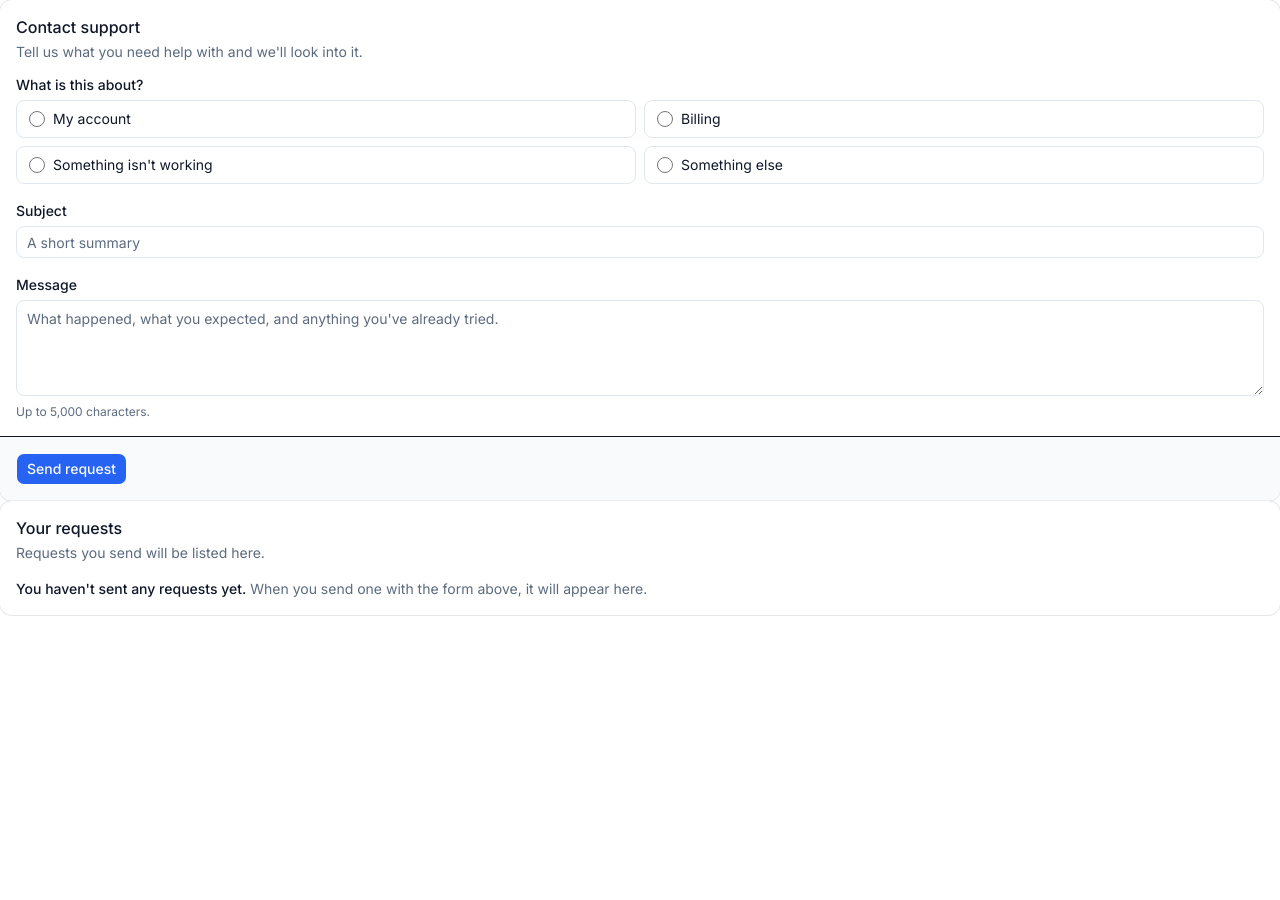
Test: sending a request › the first request ever replaces the empty state
Click the radio button labelled "Something isn't working" at (37, 165), box [29, 157, 45, 173]
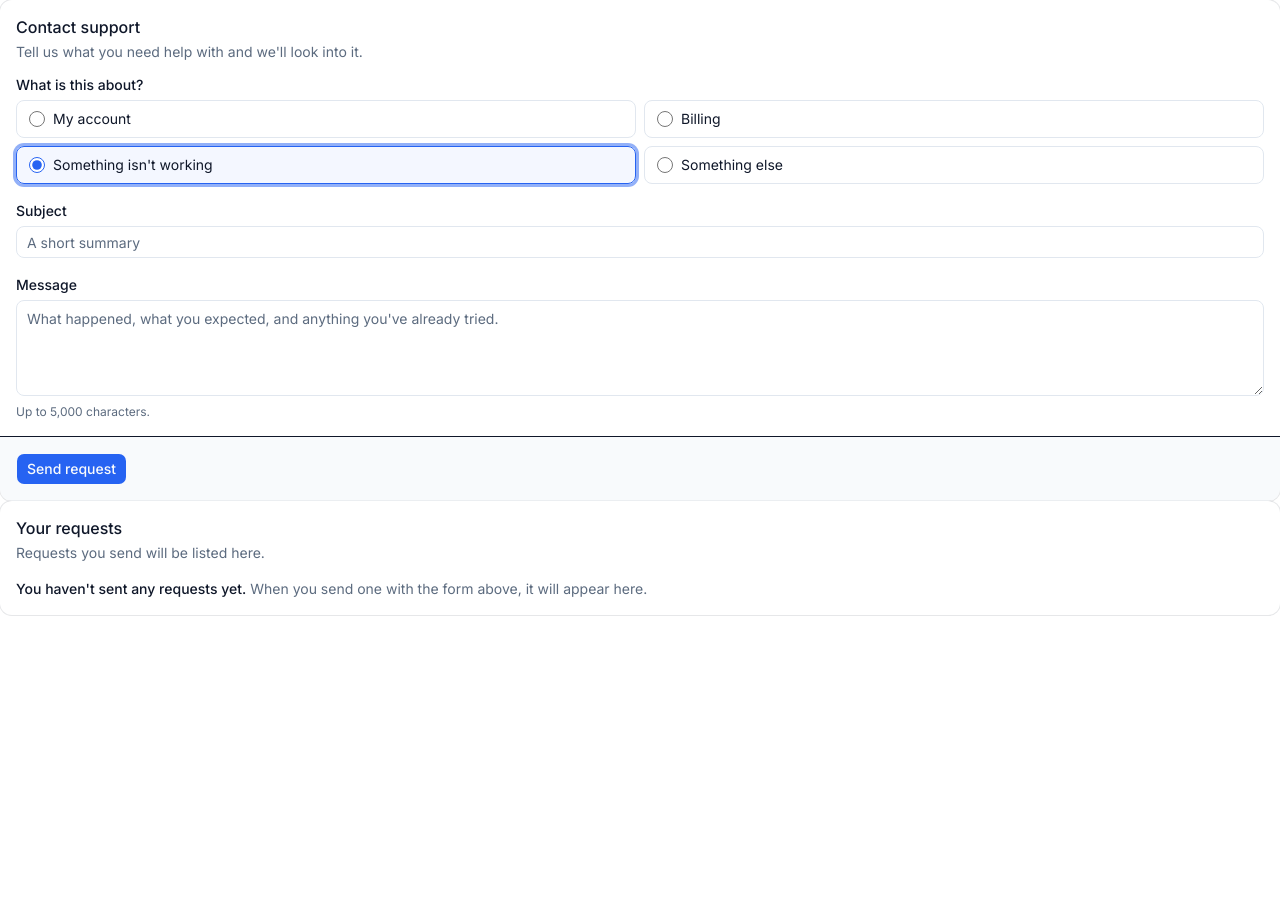
Type "My very first request" into the field labelled "Subject" at (640, 242), box [16, 226, 1264, 258]
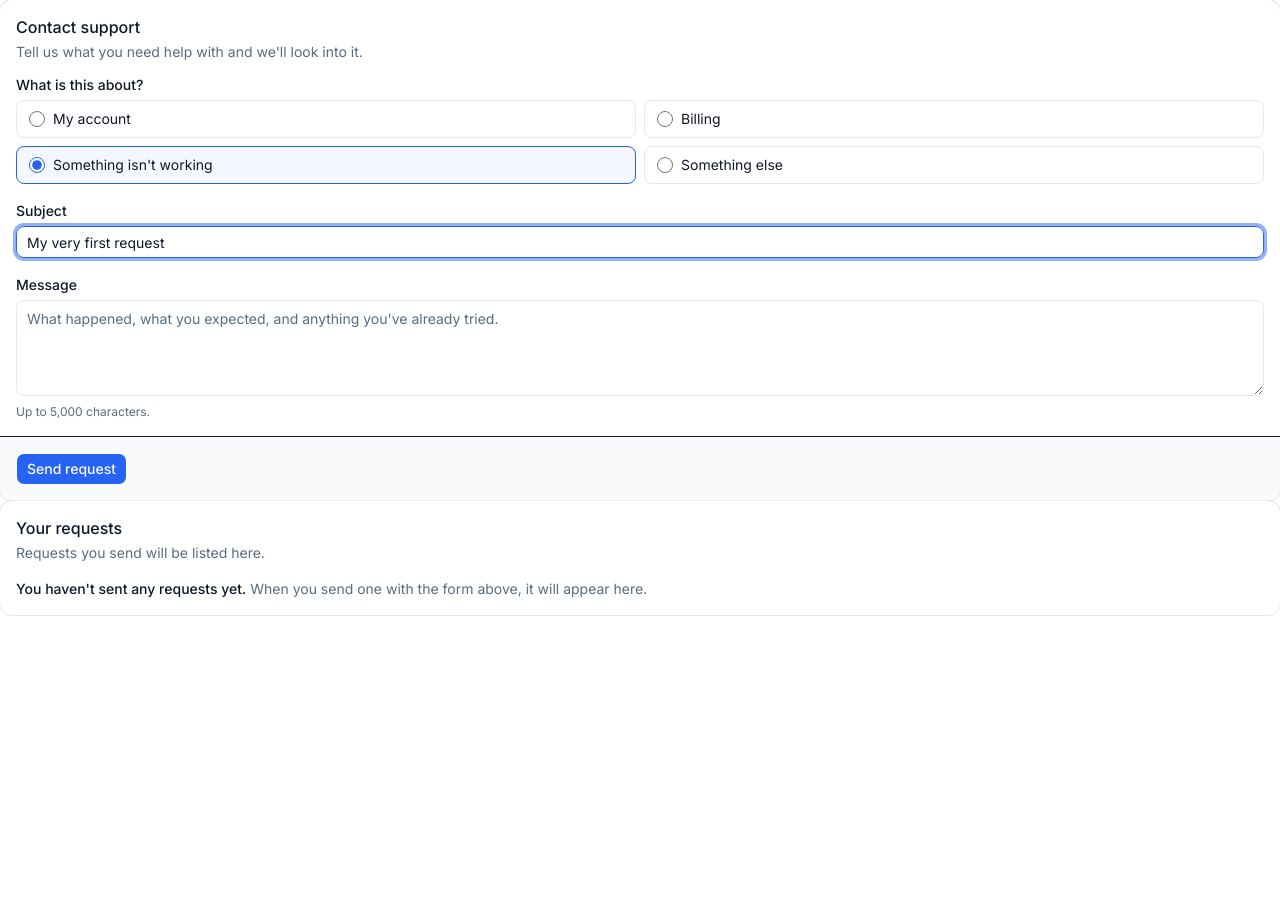
Replace the text in the text box labelled "Message" with "Some details." at (640, 348), box [16, 300, 1264, 396]
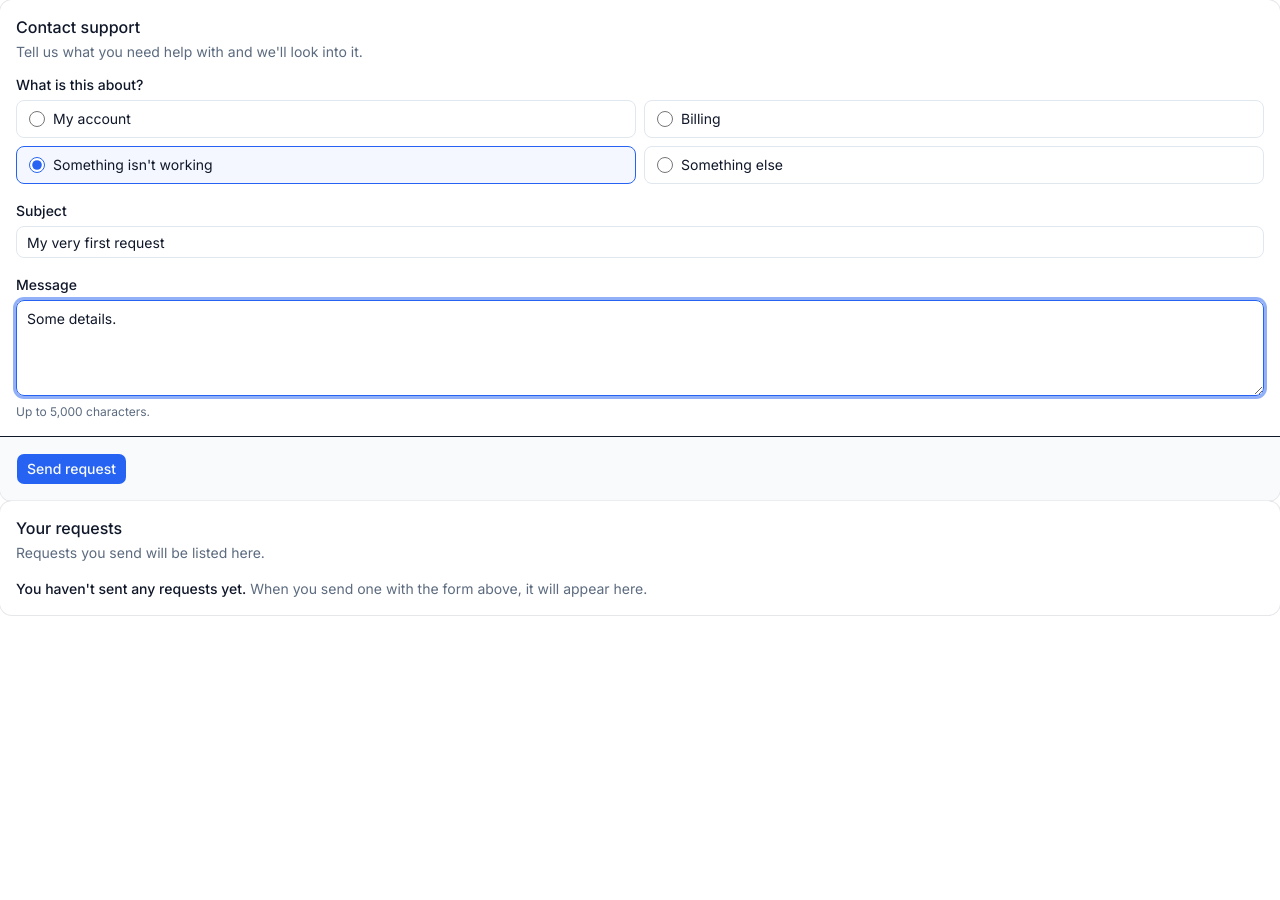
Click the button "Send request" at (72, 469), box [16, 453, 127, 485]
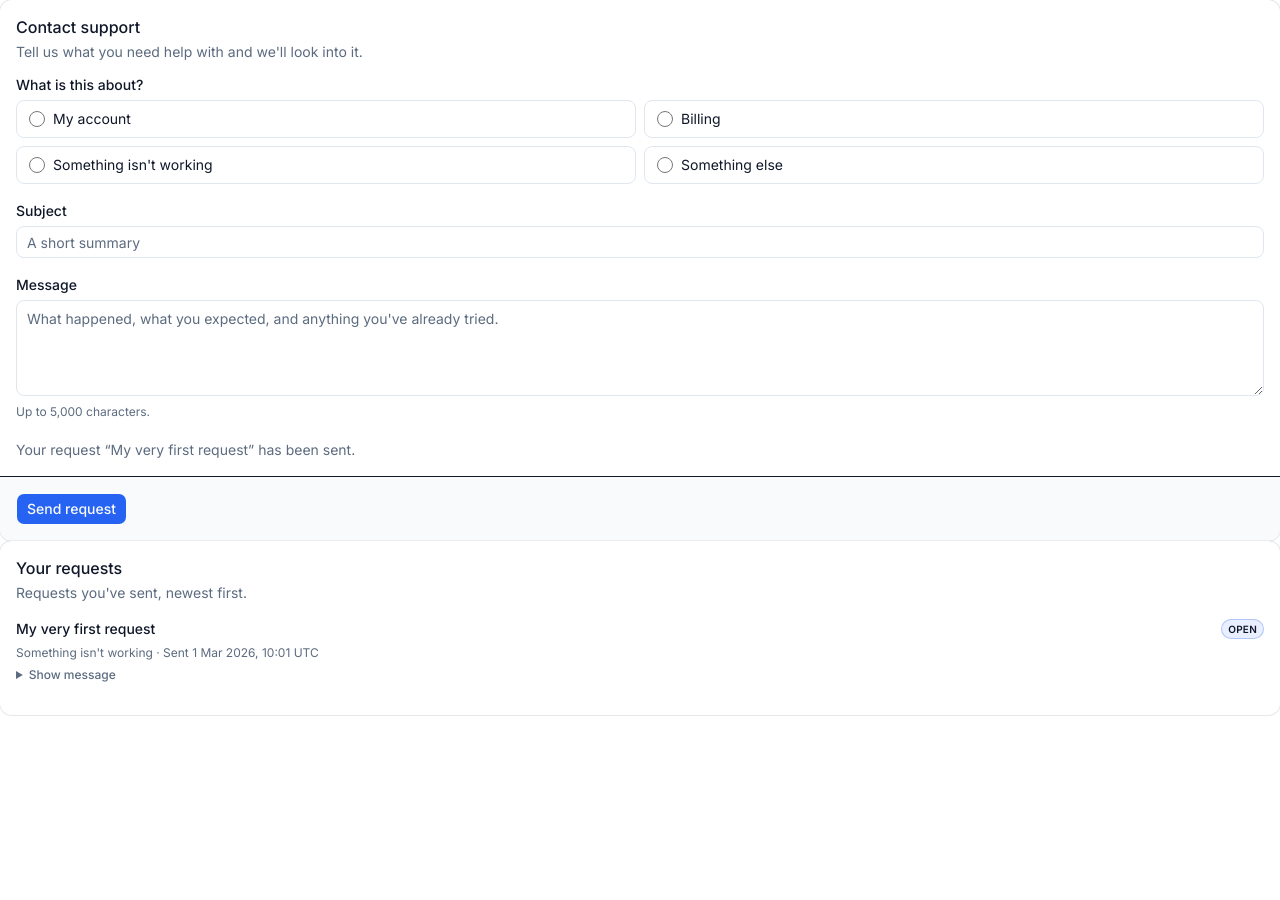
Result: the text "Your request “My very first request” has been sent." is shown at [16, 441, 355, 458]
